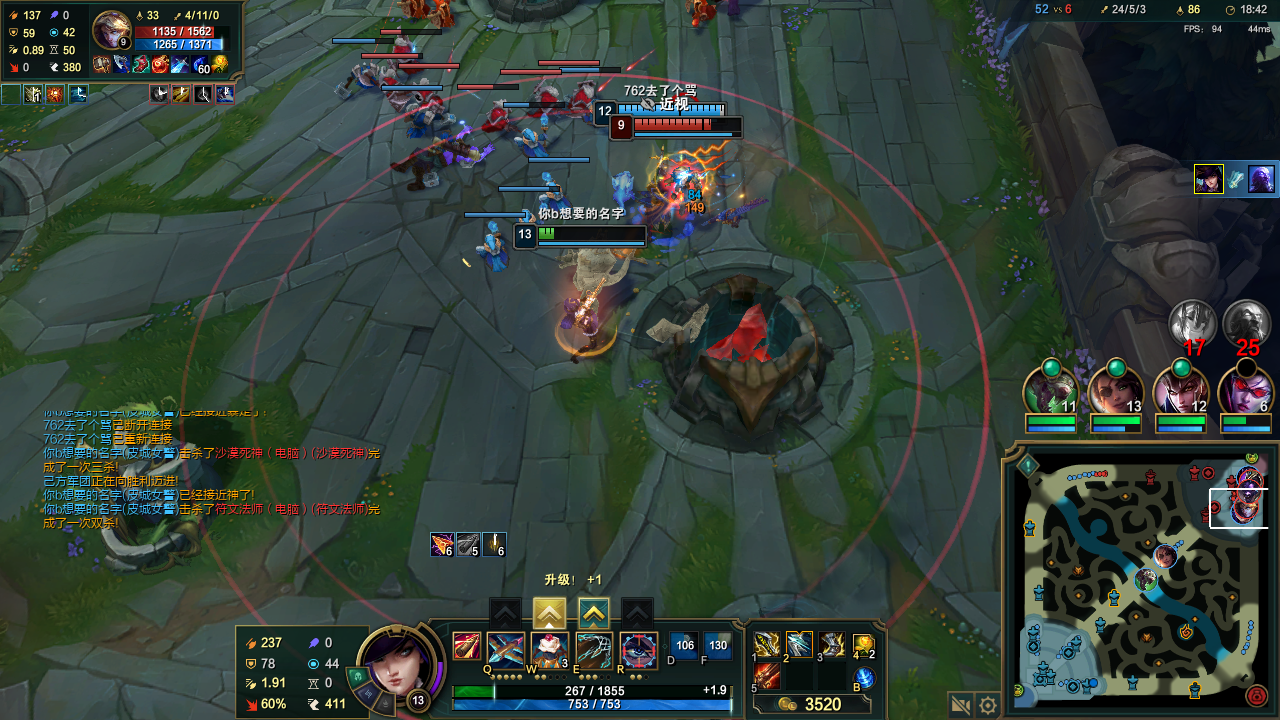DFXB: (566, 83, 600, 119), (533, 84, 559, 114), (391, 39, 415, 60), (484, 103, 505, 127), (431, 4, 453, 26), (420, 88, 442, 108), (384, 79, 405, 99), (405, 2, 420, 14)
DFYX: (632, 120, 735, 133)
Shenji: (580, 603, 605, 622)
Tuijianshengji: (536, 599, 561, 625)
WFXB: (475, 233, 516, 272), (519, 127, 552, 157), (545, 182, 572, 216), (347, 60, 379, 87), (405, 107, 438, 133), (519, 205, 539, 227)
